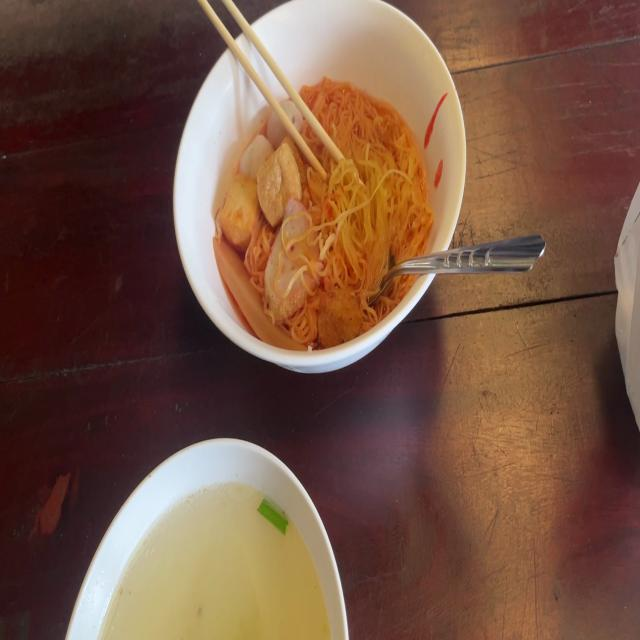crunchy_squid: (216, 236, 300, 355)
egg_noodles: (310, 89, 422, 308)
fish_ball: (237, 131, 275, 184), (266, 102, 304, 150)
fried_fish_balls: (268, 198, 318, 313)
fried_tofu: (256, 136, 304, 211)
noodle: (221, 76, 428, 352)
tofu: (220, 170, 263, 238)
